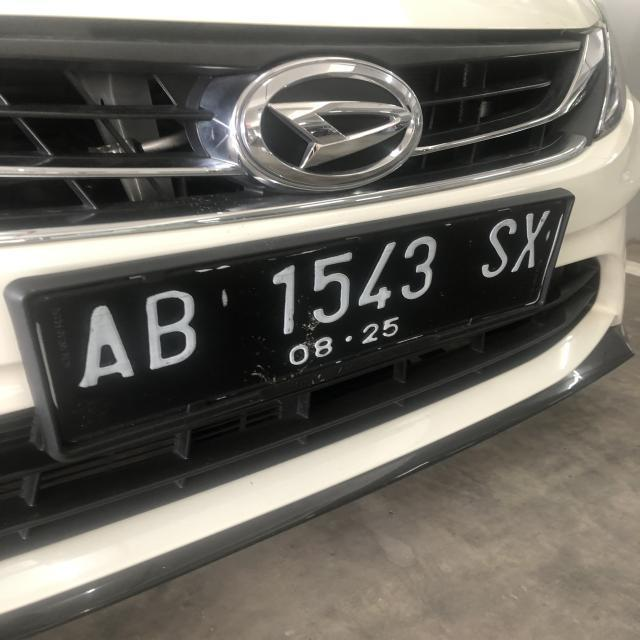1: (266, 258, 300, 338)
3: (402, 237, 442, 300)
4: (358, 238, 401, 318)
5: (306, 252, 353, 326)
A: (72, 302, 136, 392)
B: (143, 290, 200, 370)
S: (478, 216, 518, 282)
X: (517, 206, 547, 276)
